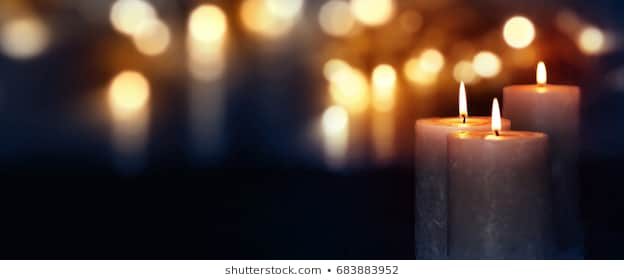Fire: (107, 71, 152, 146), (501, 14, 540, 47), (475, 53, 504, 78), (456, 80, 470, 125), (491, 97, 504, 137), (533, 58, 550, 85)
